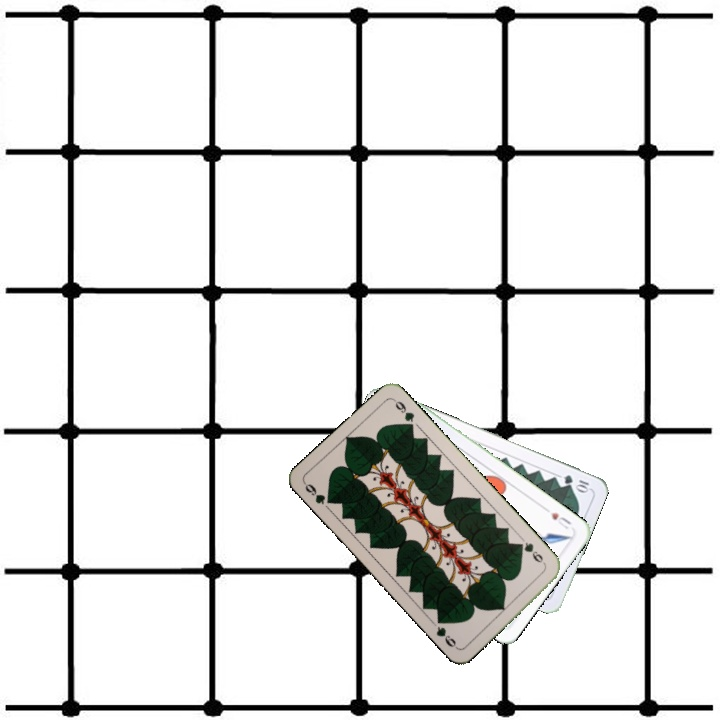G10: (560, 470, 592, 494)
G9: (514, 538, 548, 568), (300, 479, 336, 507)
HU: (547, 508, 574, 532)
